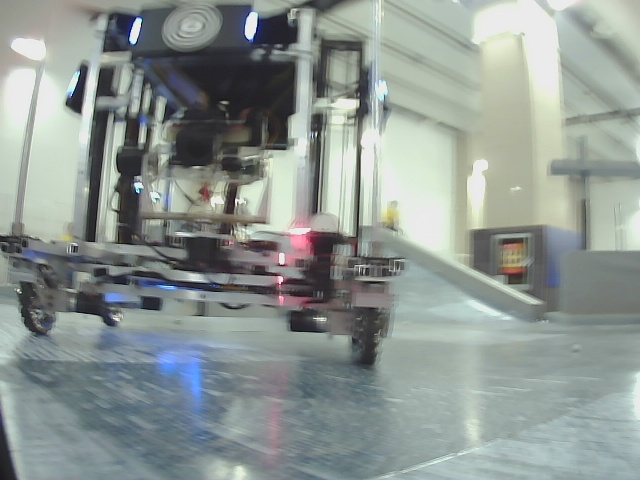lamp: (244, 10, 258, 42), (128, 16, 142, 46)
pair: (130, 16, 257, 42)
